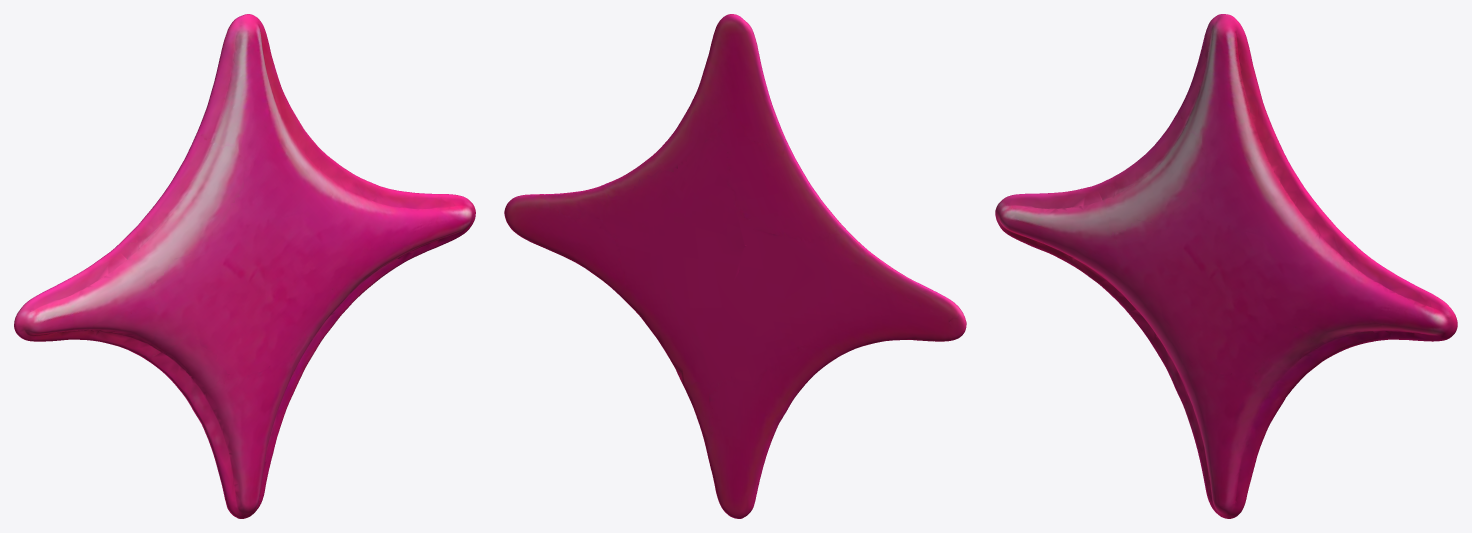
The model's file is sparkle__companion__r1__p1__solo-attach__multi-4.glb.
The picture shows the model from 3 angles, left to right: view 1: azimuth 30°, elevation 25°; view 2: azimuth 150°, elevation 25°; view 3: azimuth 330°, elevation 25°; orthographic projection.
Visible parts, largest first — view 1: model; view 2: model; view 3: model.
Part boxes in pixels (x1=…): model: x1=14, y1=14, x2=475, y2=518; model: x1=504, y1=14, x2=966, y2=518; model: x1=995, y1=14, x2=1457, y2=518.
Size of the model in its own units: 1.63 by 1.7 by 0.0796.
Materials: 1 (1 with a texture image).
